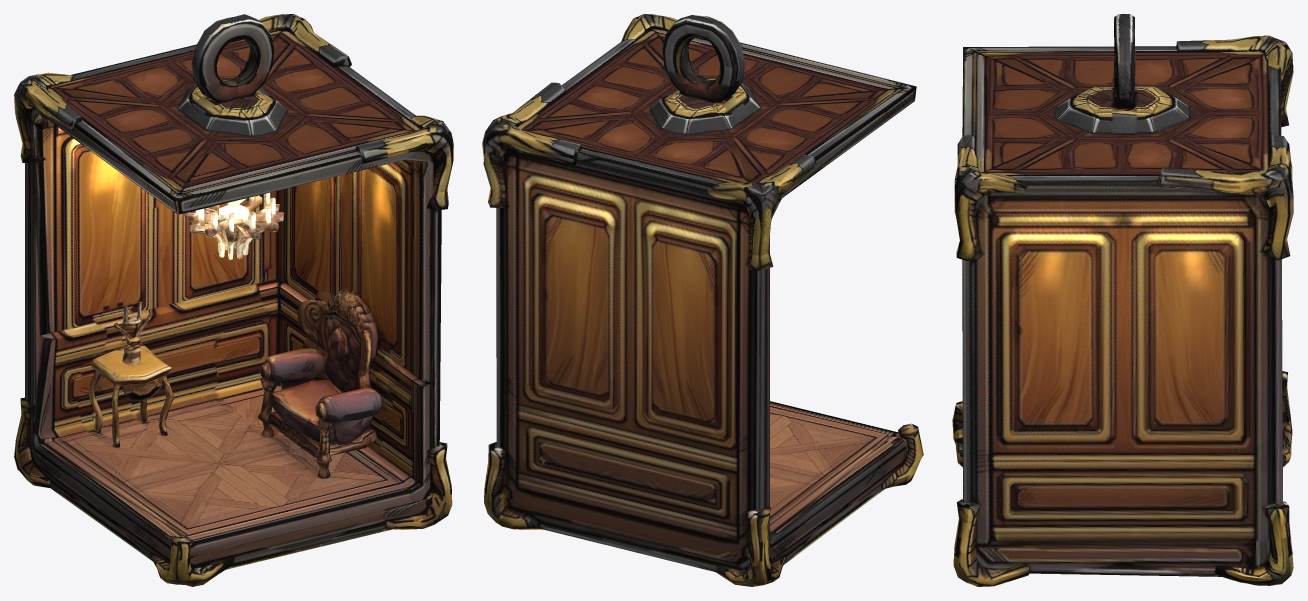
Rendered from amber_room.glb.
The picture shows the model from 3 angles, left to right: view 1: azimuth 30°, elevation 25°; view 2: azimuth 150°, elevation 25°; view 3: azimuth 270°, elevation 25°; orthographic projection. The views are drawn at different scales.
Size of the model in its own units: 0.625 by 1 by 0.6211.
1 material, 1 textured.
